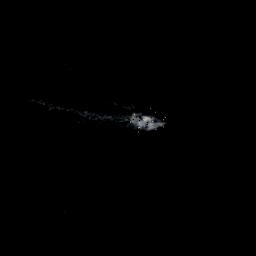boat: (126, 105, 168, 134)
